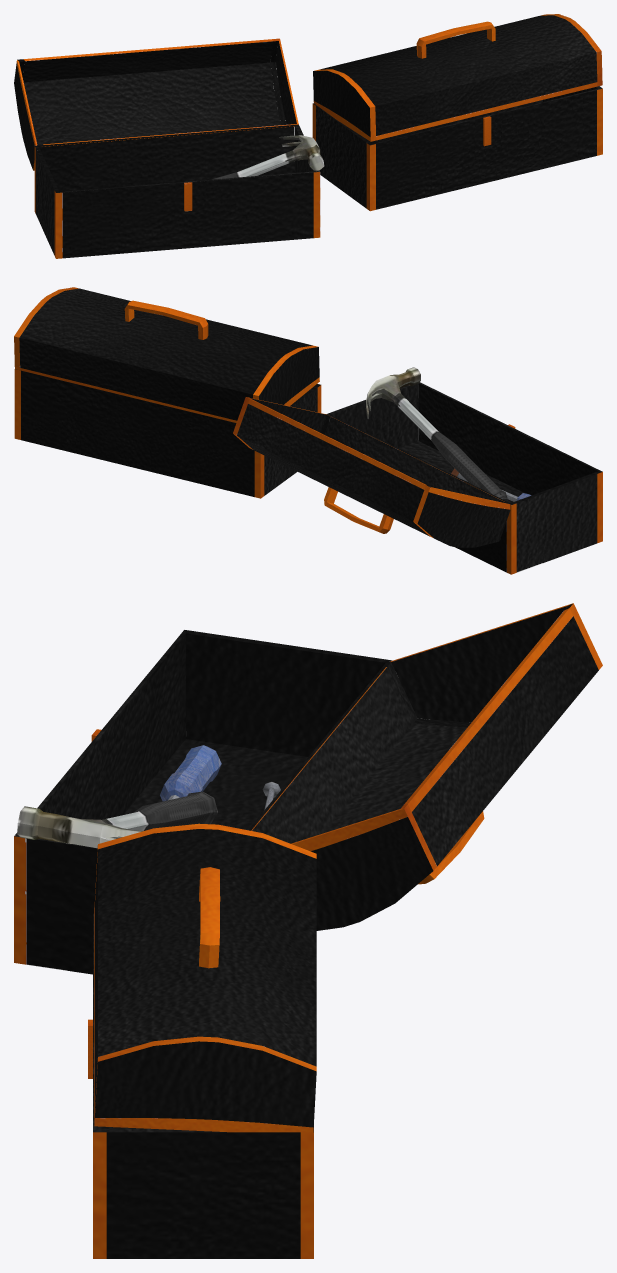
The model's file is tool_box.glb.
The picture shows the model from 3 angles, top to bottom: view 1: azimuth 30°, elevation 25°; view 2: azimuth 150°, elevation 25°; view 3: azimuth 270°, elevation 25°; orthographic projection. The views are drawn at different scales.
Parts seen in each view (by area): view 1: toolBox_5, top_4, top.001_6, toolBox.001_7, hamer_0; view 2: top.001_6, toolBox_5, toolBox.001_7, top_4, hamer_0; view 3: top.001_6, top_4, toolBox_5, toolBox.001_7, hamer_0, SCRAWdRIVE_3.
Boxes of the visible parts, x1=… form: toolBox_5: x1=34, y1=124, x2=320, y2=258; top_4: x1=14, y1=38, x2=298, y2=170; top.001_6: x1=313, y1=14, x2=602, y2=141; toolBox.001_7: x1=312, y1=86, x2=602, y2=211; hamer_0: x1=212, y1=135, x2=324, y2=179; top.001_6: x1=14, y1=287, x2=319, y2=422; toolBox_5: x1=326, y1=382, x2=602, y2=574; toolBox.001_7: x1=14, y1=369, x2=321, y2=498; top_4: x1=233, y1=397, x2=510, y2=547; hamer_0: x1=365, y1=367, x2=507, y2=501; top.001_6: x1=94, y1=823, x2=316, y2=1132; top_4: x1=251, y1=603, x2=602, y2=930; toolBox_5: x1=14, y1=630, x2=392, y2=974; toolBox.001_7: x1=88, y1=913, x2=313, y2=1258; hamer_0: x1=17, y1=791, x2=217, y2=848; SCRAWdRIVE_3: x1=160, y1=745, x2=221, y2=801.
Bounding box in the file's own units: 0.7302 × 0.1753 × 0.3699.
8 materials, 8 textured.
